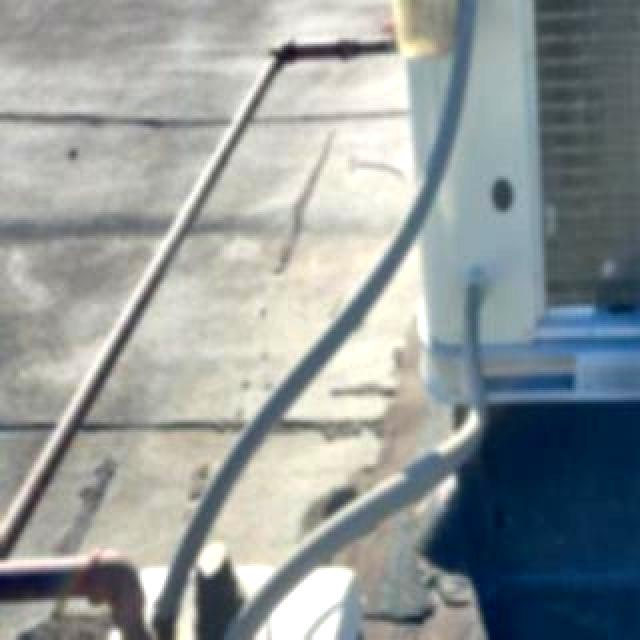SPLIT-SYSTEM: (356, 0, 640, 426)
